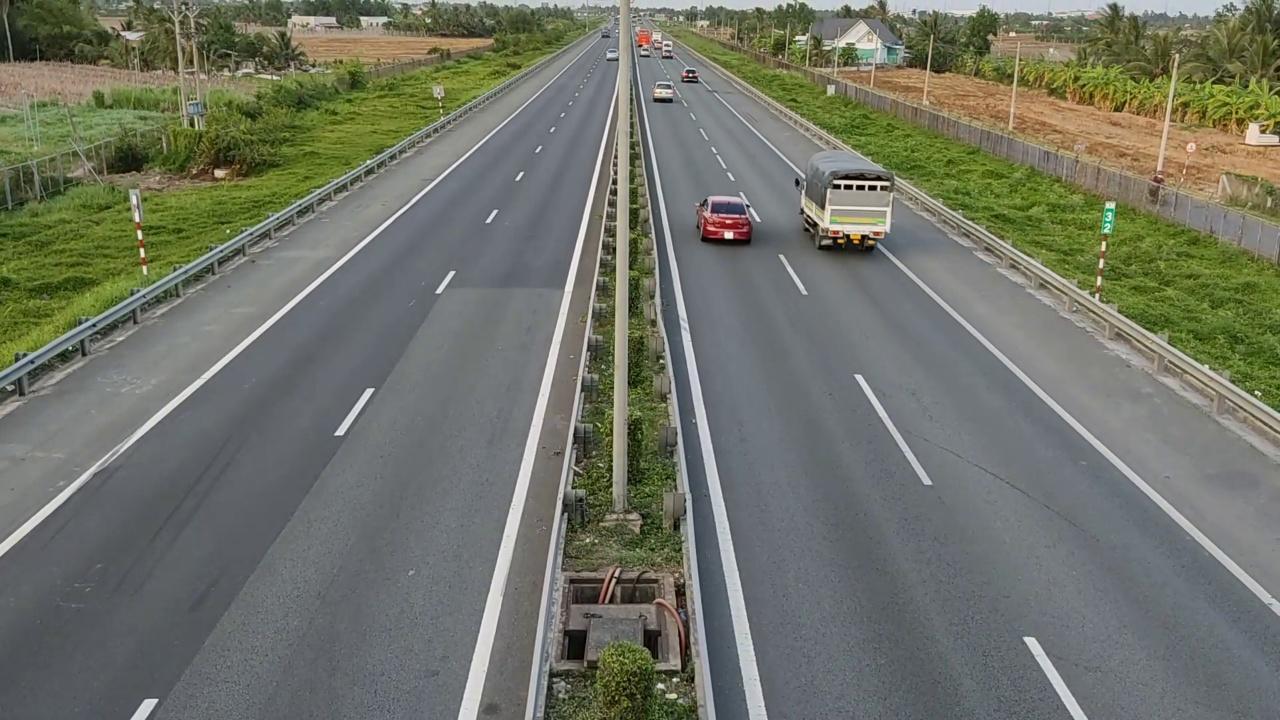car: (695, 193, 759, 243), (652, 80, 677, 101), (681, 68, 699, 82)
truck: (794, 141, 898, 253)
